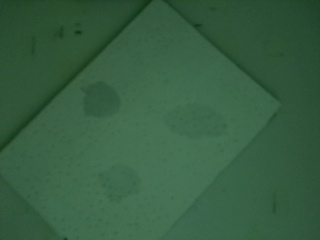Water_detected: (176, 101, 217, 141), (78, 87, 113, 115), (104, 173, 138, 197)
